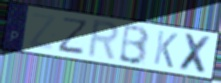B: (117, 23, 151, 67)
K: (152, 29, 179, 70)
R: (85, 18, 121, 63)
X: (178, 32, 214, 77)
Z: (55, 15, 91, 56), (27, 11, 59, 52)
